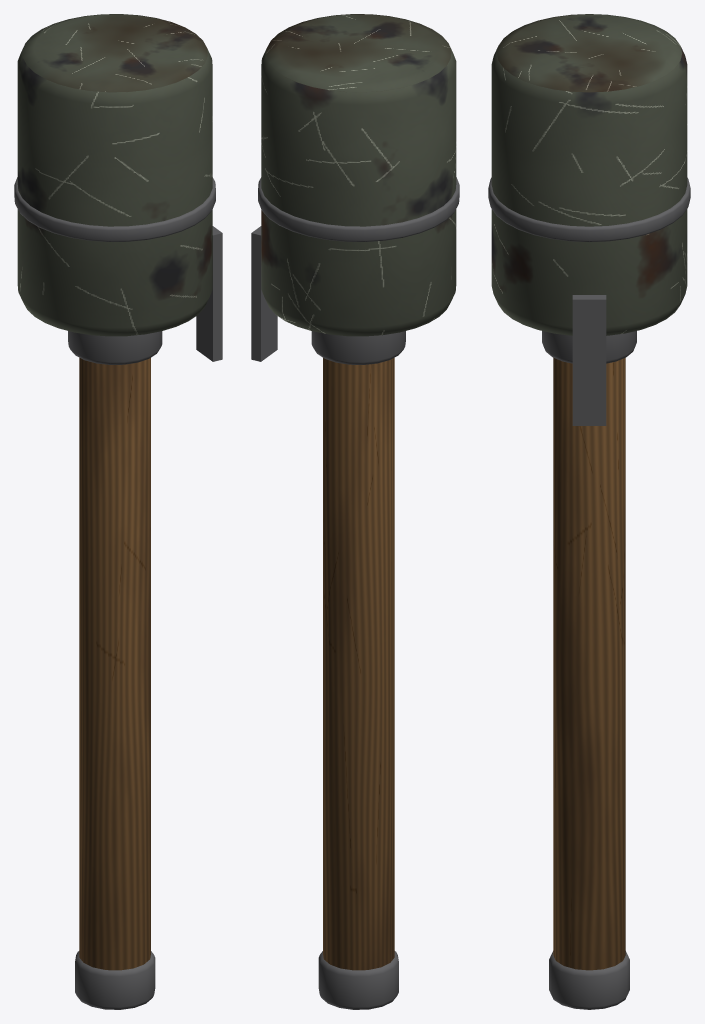
File: stick_grenade.glb
The picture shows the model from 3 angles, left to right: view 1: azimuth 30°, elevation 25°; view 2: azimuth 150°, elevation 25°; view 3: azimuth 270°, elevation 25°; orthographic projection.
Parts seen in each view (by area): view 1: Head, Handle, Rim, Cap, Collar, Clip; view 2: Head, Handle, Rim, Cap, Collar, Clip; view 3: Head, Handle, Clip, Rim, Cap, Collar.
Part boxes in pixels (box(x1,y1,x2,y2)): Head: box(17, 14, 212, 336); Handle: box(79, 357, 150, 970); Rim: box(14, 177, 215, 241); Cap: box(75, 951, 155, 1009); Collar: box(68, 331, 162, 364); Clip: box(196, 226, 222, 361); Head: box(261, 14, 456, 336); Handle: box(323, 357, 394, 970); Rim: box(258, 177, 459, 241); Cap: box(318, 951, 398, 1009); Collar: box(311, 331, 405, 364); Clip: box(251, 226, 277, 361); Head: box(491, 14, 687, 335); Handle: box(553, 357, 625, 970); Clip: box(572, 295, 606, 425); Rim: box(488, 177, 690, 242); Cap: box(549, 951, 629, 1009); Collar: box(542, 331, 636, 363).
Bounding box in the file's own units: 0.0772 × 0.374 × 0.0724.
3 materials, 2 textured.
